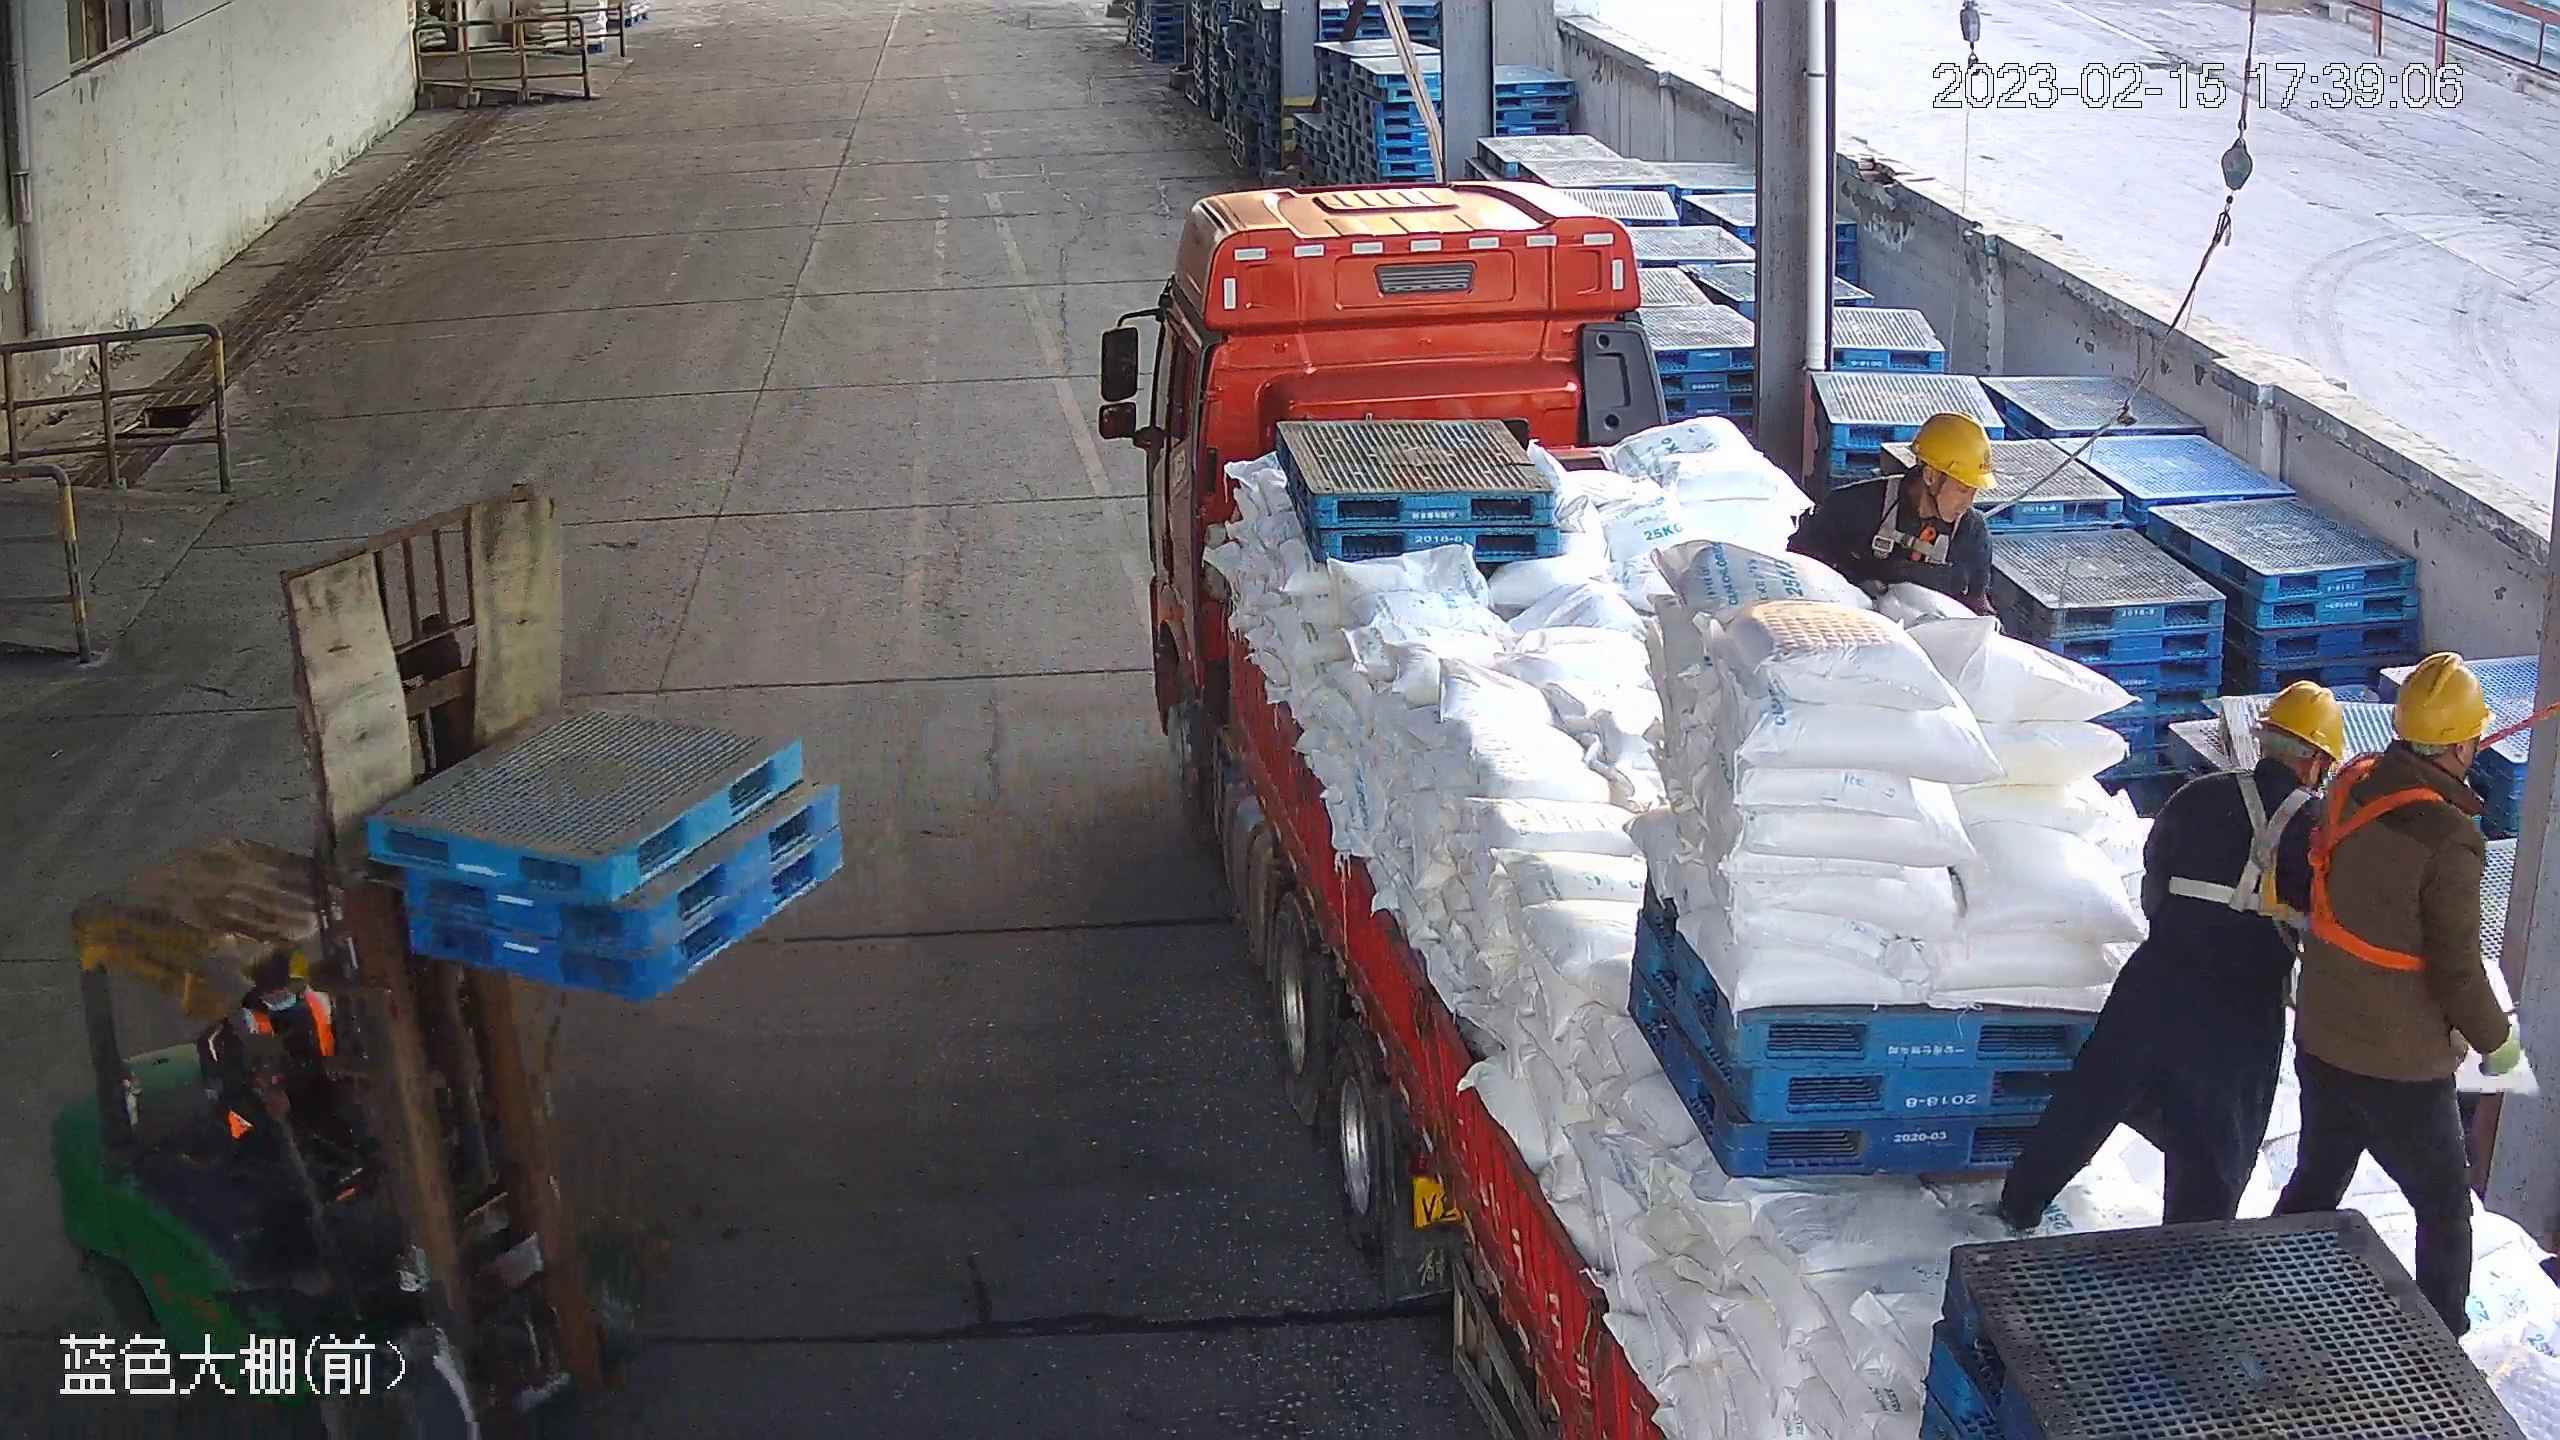belt: (2309, 767, 2444, 964), (2163, 776, 2309, 904), (1870, 478, 1951, 571)
head: (2324, 652, 2496, 837), (1827, 409, 1995, 557), (2195, 681, 2349, 808)
helmet: (2379, 653, 2493, 739), (2269, 681, 2351, 767), (1909, 409, 1993, 492)
people: (2004, 679, 2344, 1225), (2297, 646, 2532, 1362)
truck: (1104, 181, 2560, 1440)
